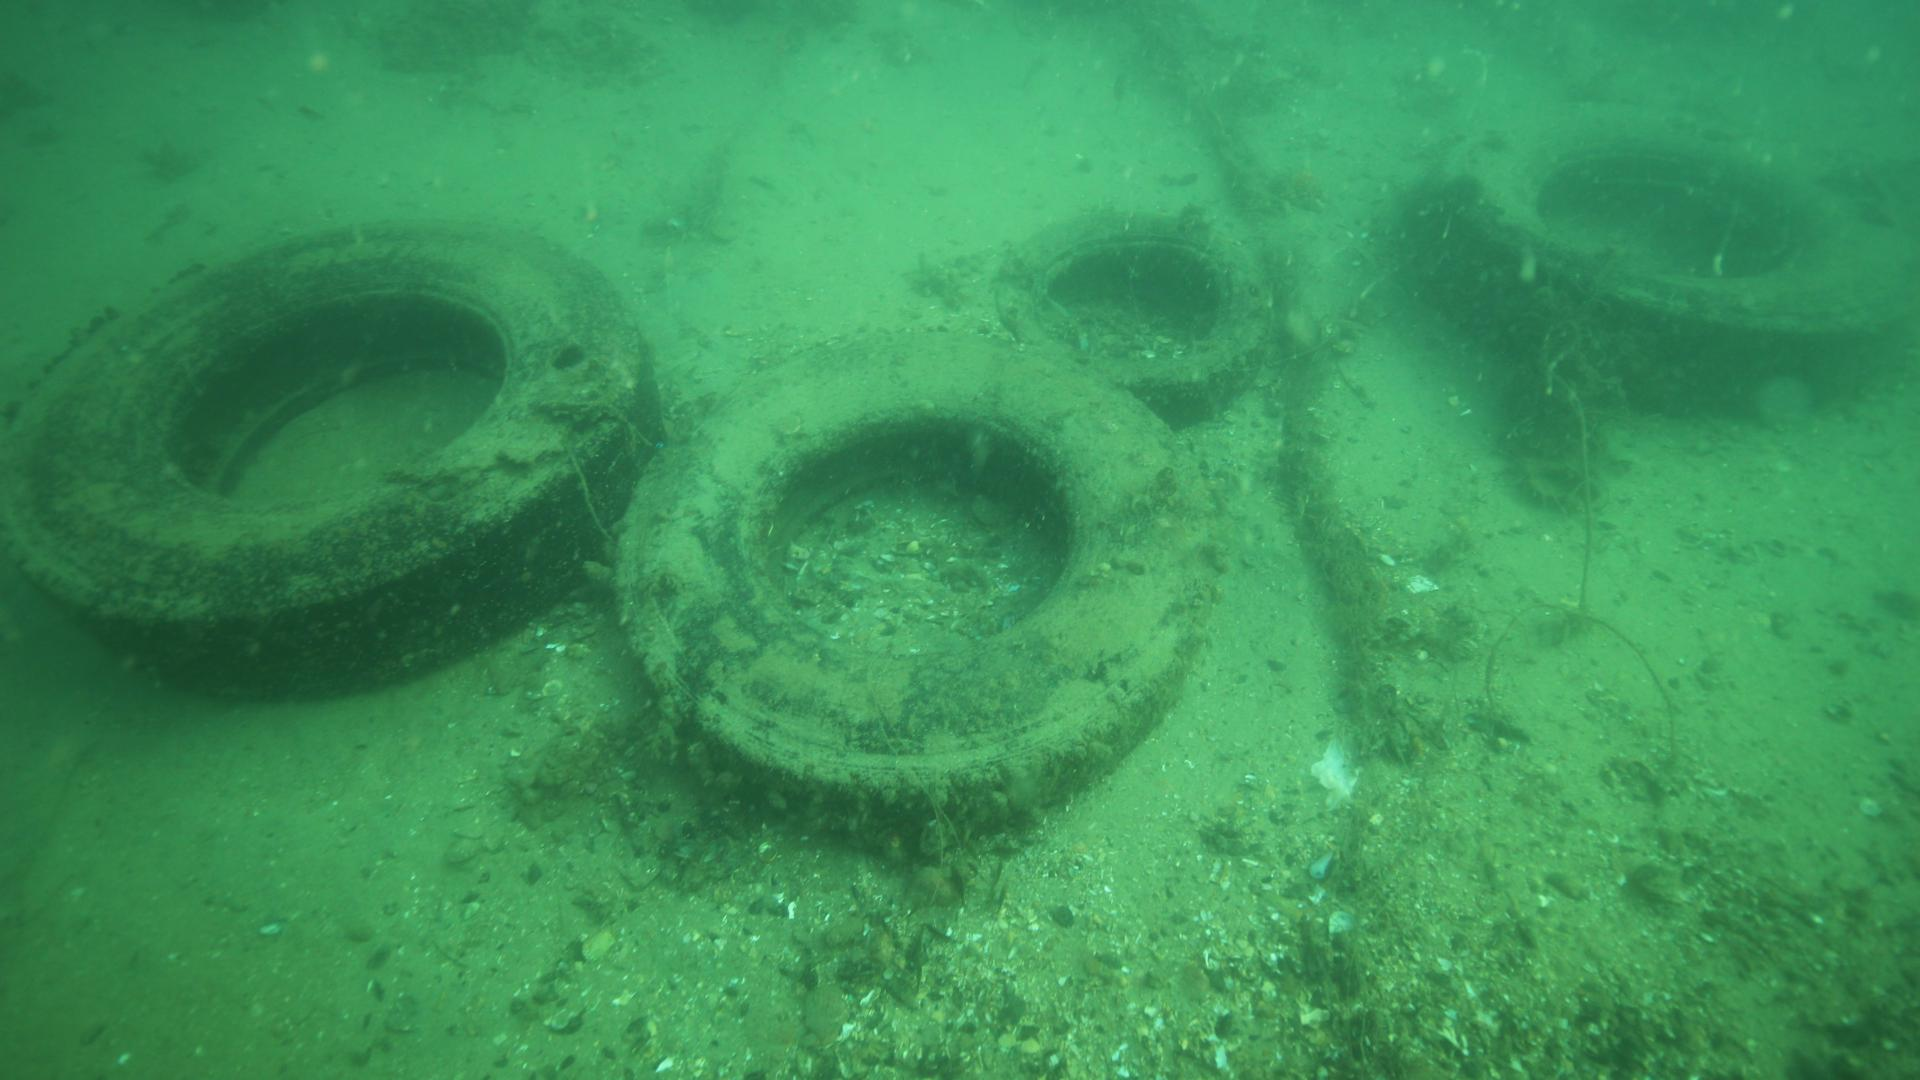tire: (15, 222, 651, 695), (611, 327, 1211, 827), (1443, 103, 1888, 407), (1000, 208, 1275, 401)
